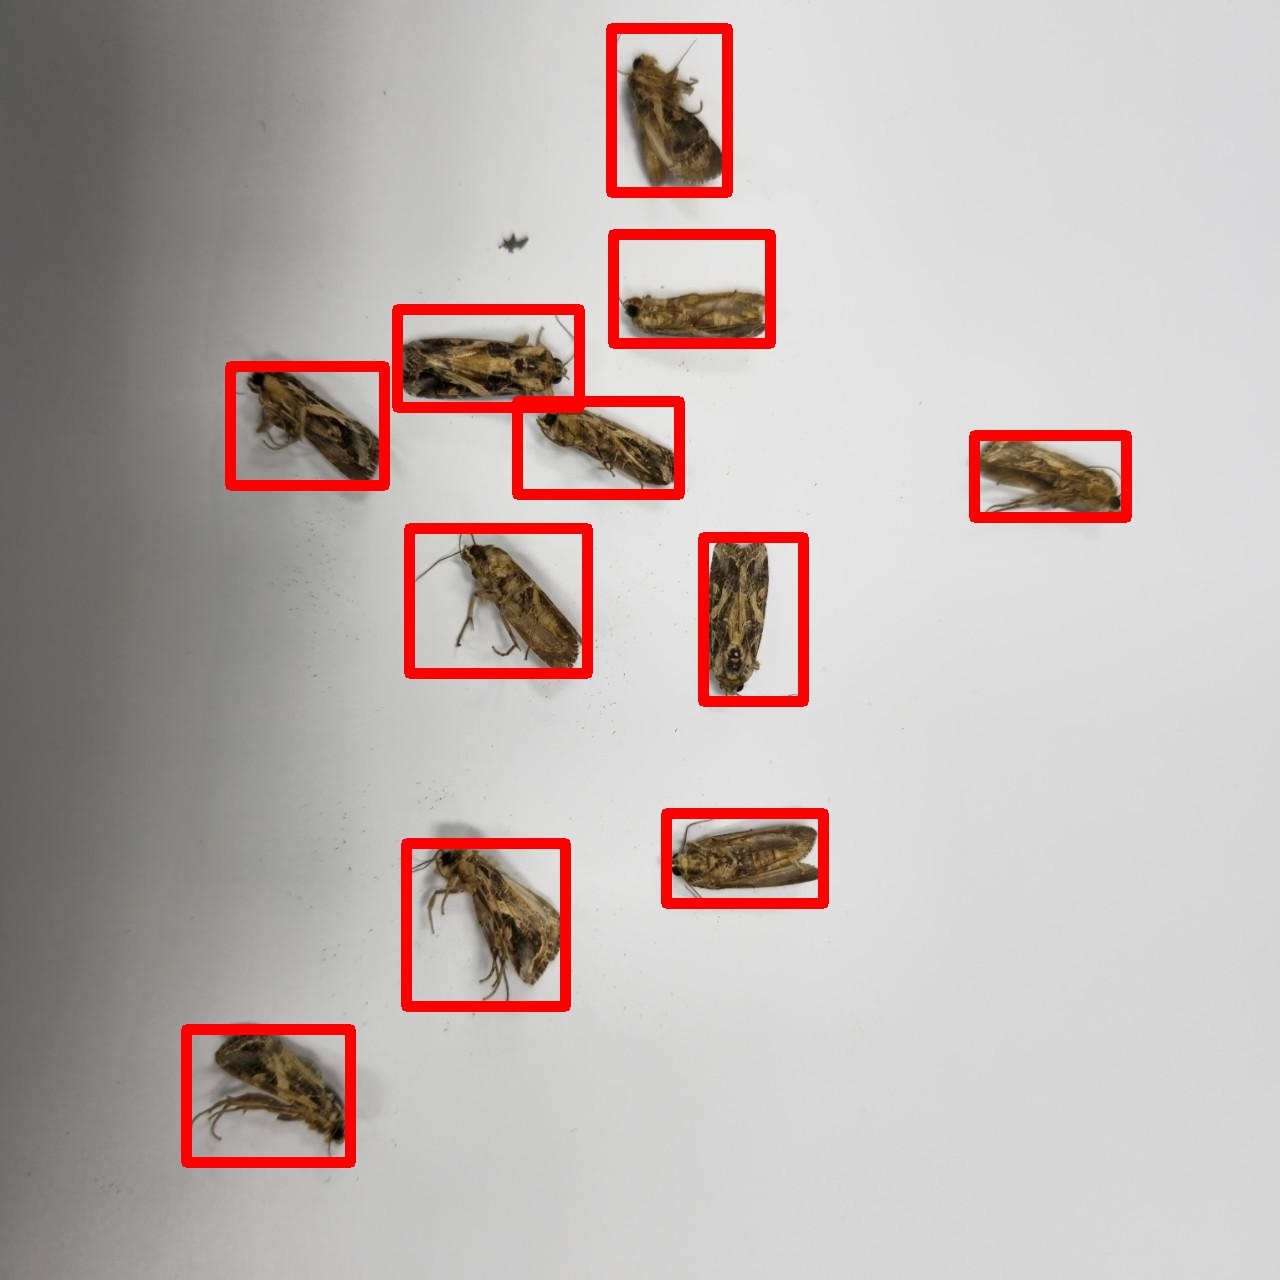Spodoptera litura: (406, 843, 565, 1006), (409, 527, 587, 673), (186, 1029, 350, 1162), (611, 28, 727, 192), (230, 366, 384, 485), (397, 309, 579, 407), (613, 234, 770, 343), (703, 537, 803, 701), (517, 401, 679, 493), (666, 813, 823, 903), (974, 435, 1126, 517)
